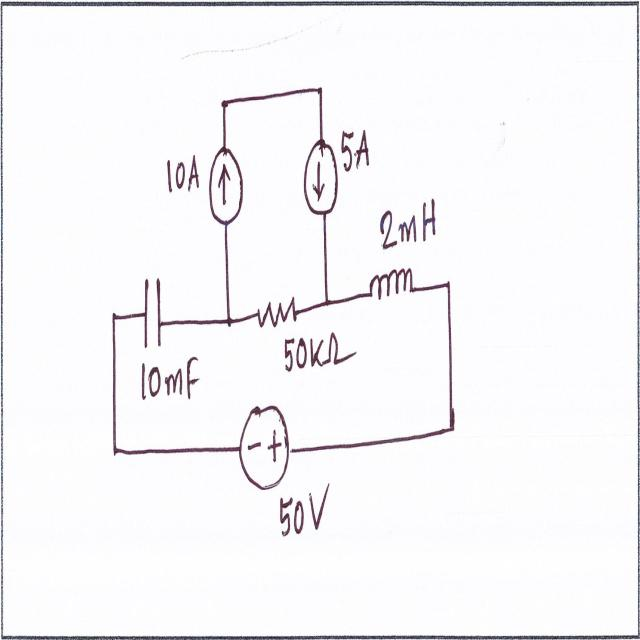capacitor: (140, 266, 166, 358)
current_source: (205, 140, 248, 236), (302, 139, 340, 221)
inductor: (364, 264, 415, 312)
resistor: (256, 283, 300, 334)
voltage_source: (233, 393, 294, 497)
